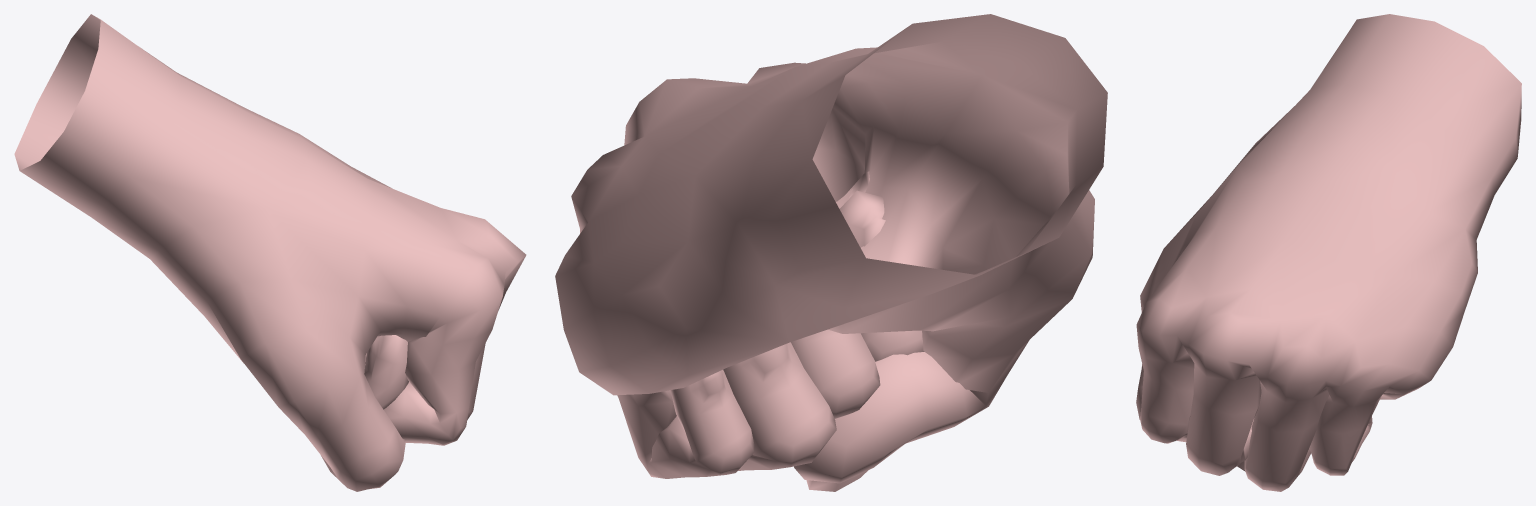
Rendered from Anime_Female_A_Fist01.fbx.
3 views of the same model, side by side, from view 1: azimuth 30°, elevation 25°; view 2: azimuth 150°, elevation 25°; view 3: azimuth 270°, elevation 25° (orthographic). The views are drawn at different scales.
Parts seen in each view (by area): view 1: Anime_Female_A_Fist01; view 2: Anime_Female_A_Fist01; view 3: Anime_Female_A_Fist01.
Part boxes in pixels (x1,y1,x2,y2): Anime_Female_A_Fist01: [14, 14, 526, 491]; Anime_Female_A_Fist01: [555, 14, 1107, 491]; Anime_Female_A_Fist01: [1136, 14, 1521, 491].
Bounding box in the file's own units: 0.5919 × 0.5992 × 0.5469.
